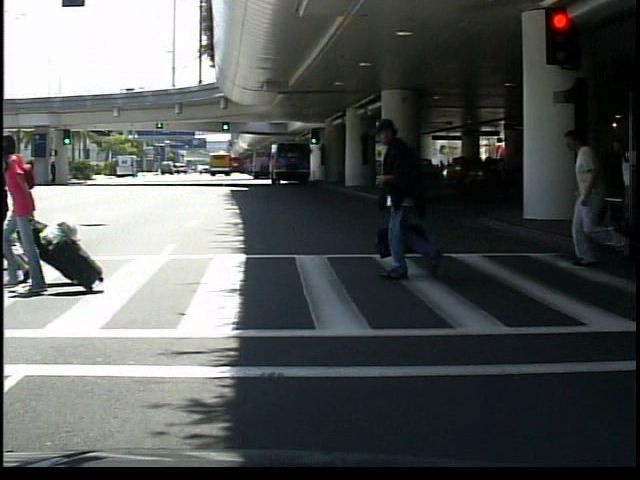person: (359, 113, 455, 282), (563, 113, 624, 270)
